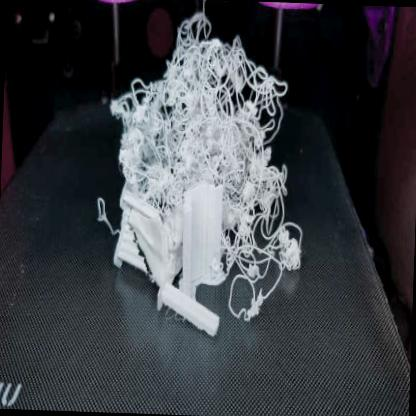fail: (120, 9, 290, 184), (225, 180, 305, 326)
